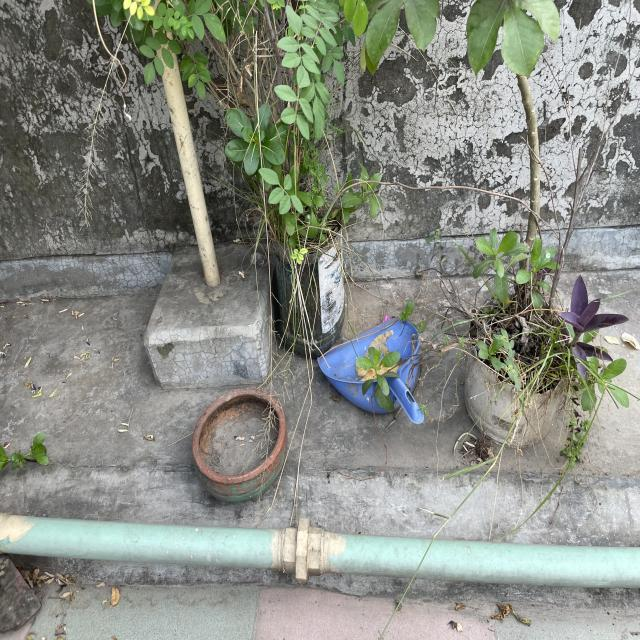Breeding Place: (464, 300, 560, 444), (182, 389, 291, 508), (315, 316, 422, 424)
